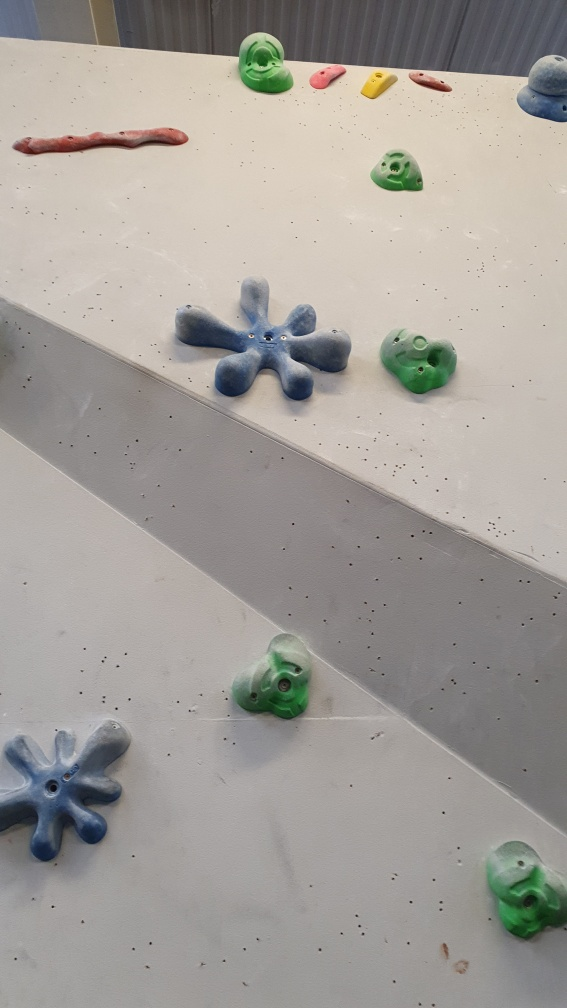Crimp: (406, 68, 458, 96), (308, 63, 347, 88)
Jug: (227, 629, 318, 727), (482, 838, 565, 939), (381, 325, 460, 400), (237, 31, 294, 95), (367, 147, 427, 196)
Octopus Pinch: (173, 273, 360, 407), (1, 713, 135, 863)
Pinch: (8, 123, 204, 159), (358, 67, 402, 101)
Sloper: (516, 51, 567, 129)
